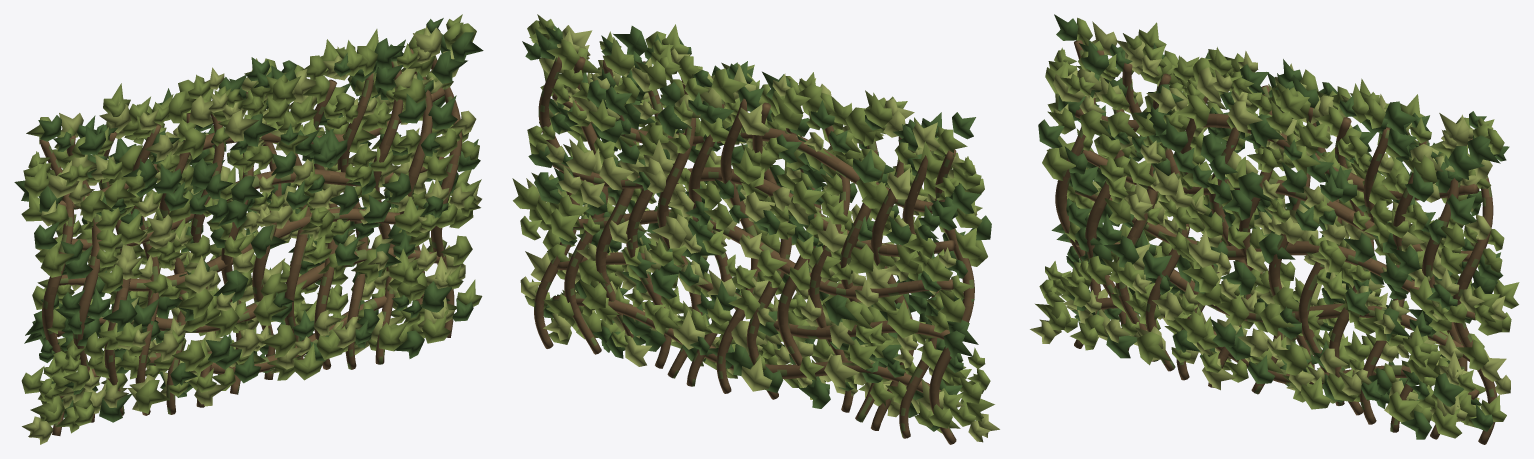
Rendered from ForestVineThicket.fbx.
The picture shows the model from 3 angles, left to right: view 1: azimuth 30°, elevation 25°; view 2: azimuth 150°, elevation 25°; view 3: azimuth 330°, elevation 25°; orthographic projection. The views are drawn at different scales.
Visible parts, largest first — view 1: Root_Thicket; view 2: Root_Thicket; view 3: Root_Thicket.
Boxes of the visible parts, <box> form: Root_Thicket: <box>14,14,483,444</box>; Root_Thicket: <box>512,14,999,444</box>; Root_Thicket: <box>1030,14,1519,444</box>.
Size of the model in its own units: 1191 by 828 by 98.46.
